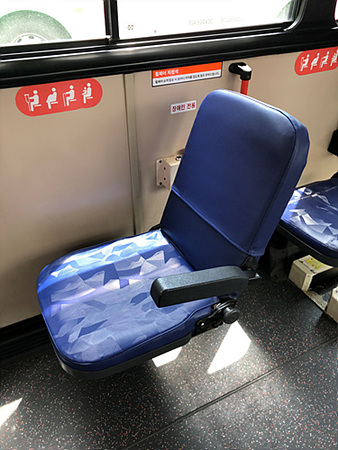seat: (39, 88, 310, 379)
